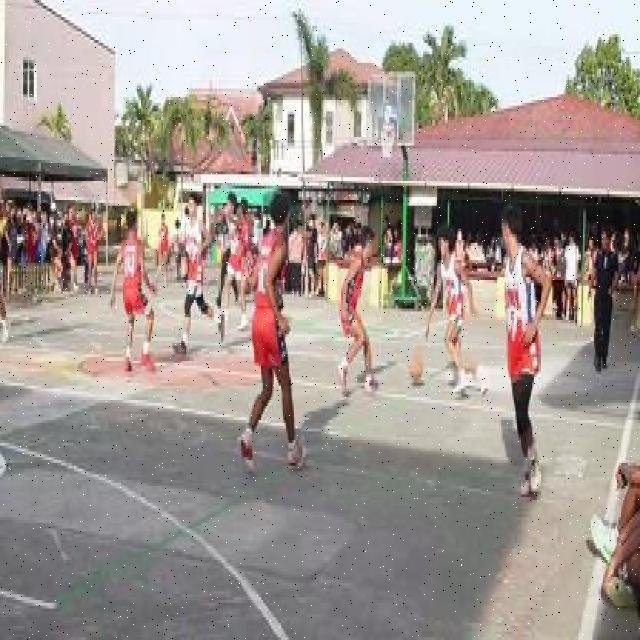ball: (407, 352, 424, 384)
hoop: (377, 124, 399, 134)
